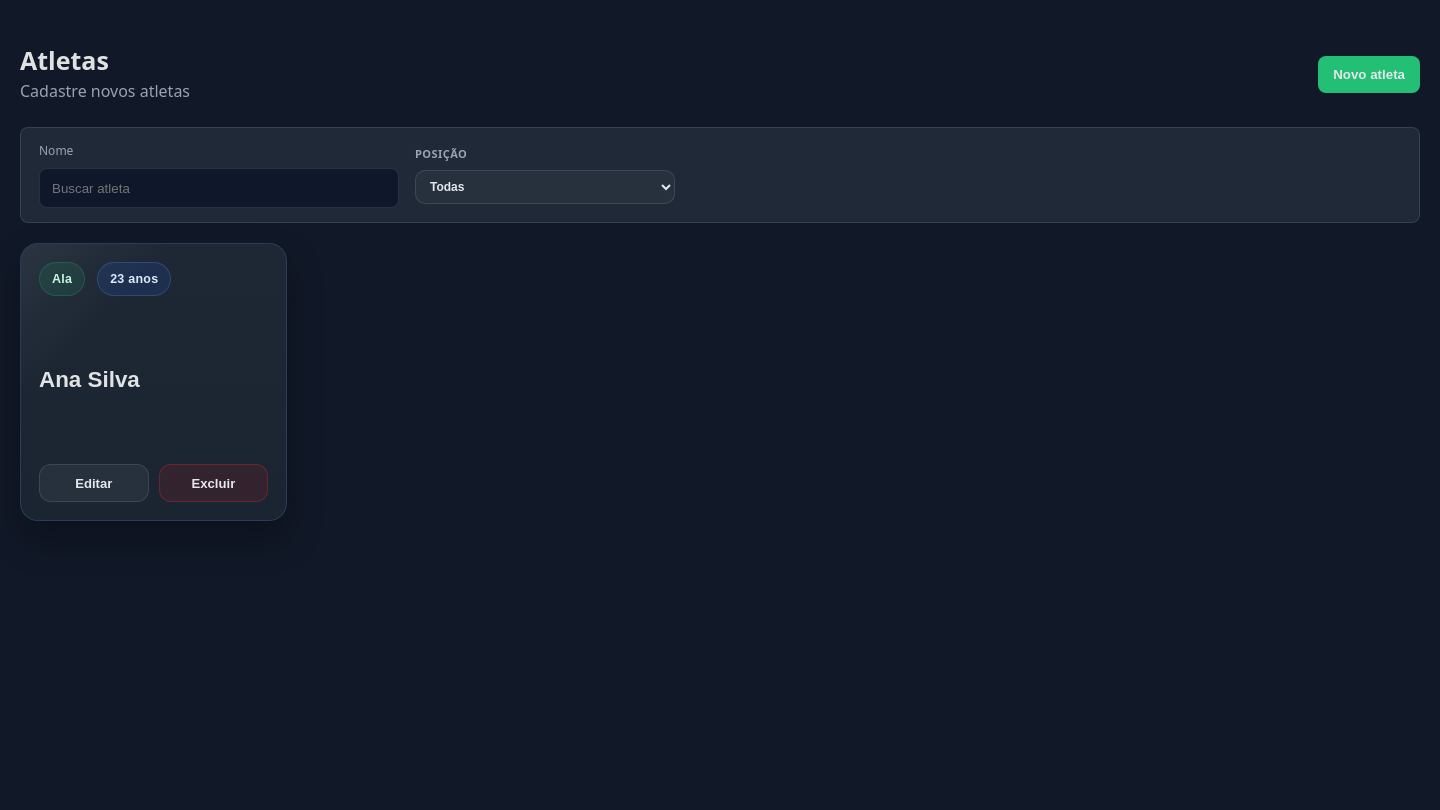
Test: AthleteRegistrationScreen editing › closes after POST success without waiting for list revalidation
Step 1. Click the button with aria-label "Editar Ana Silva" → (94, 483), box x1=39 y1=464 x2=149 y2=502
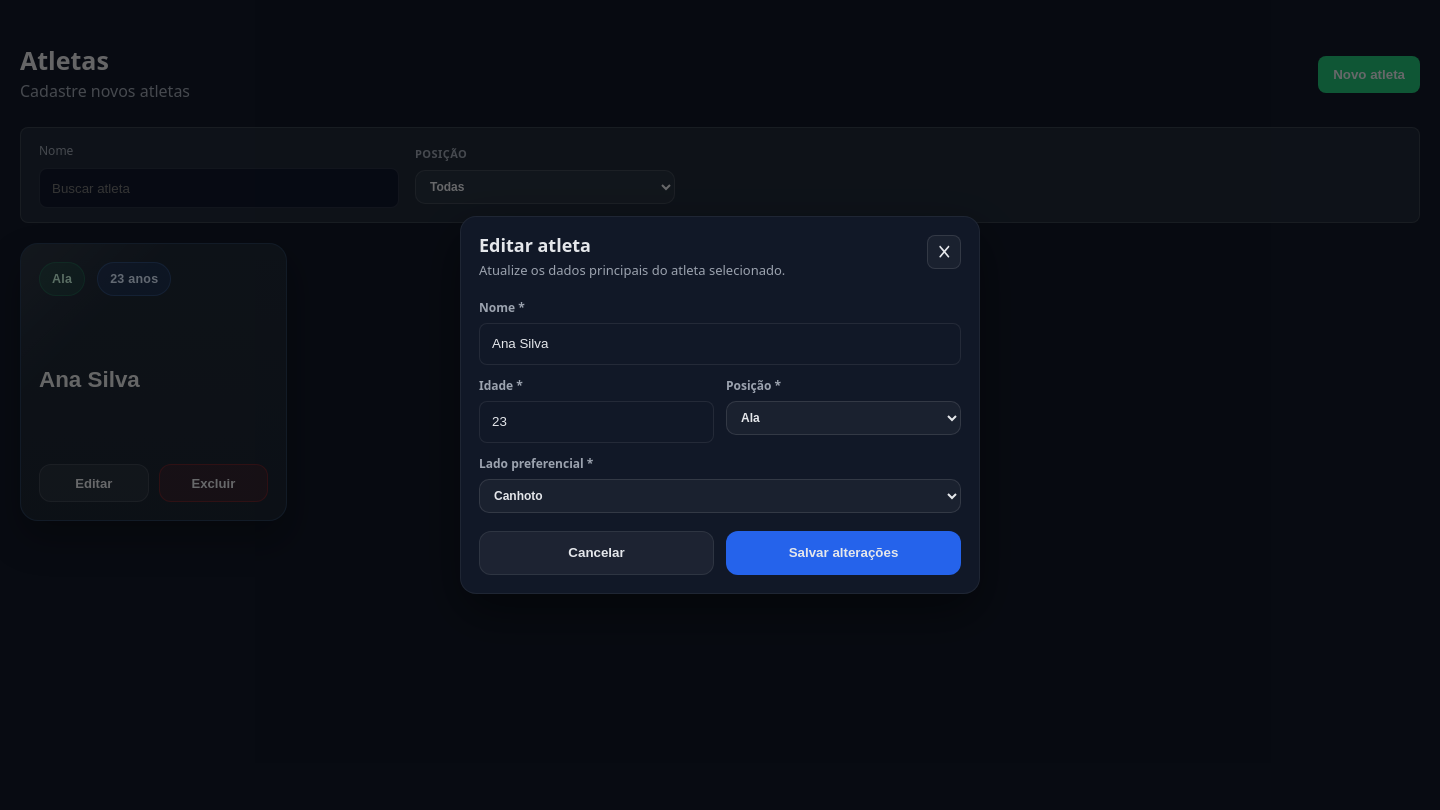
Now the dropdown labelled "Posição *" shows "Ala", box x1=726 y1=400 x2=961 y2=434
Now the dropdown labelled "Lado preferencial *" shows "Canhoto", box x1=479 y1=478 x2=961 y2=512
Step 2. Click the button "Salvar alterações" → (844, 552), box x1=726 y1=530 x2=961 y2=574
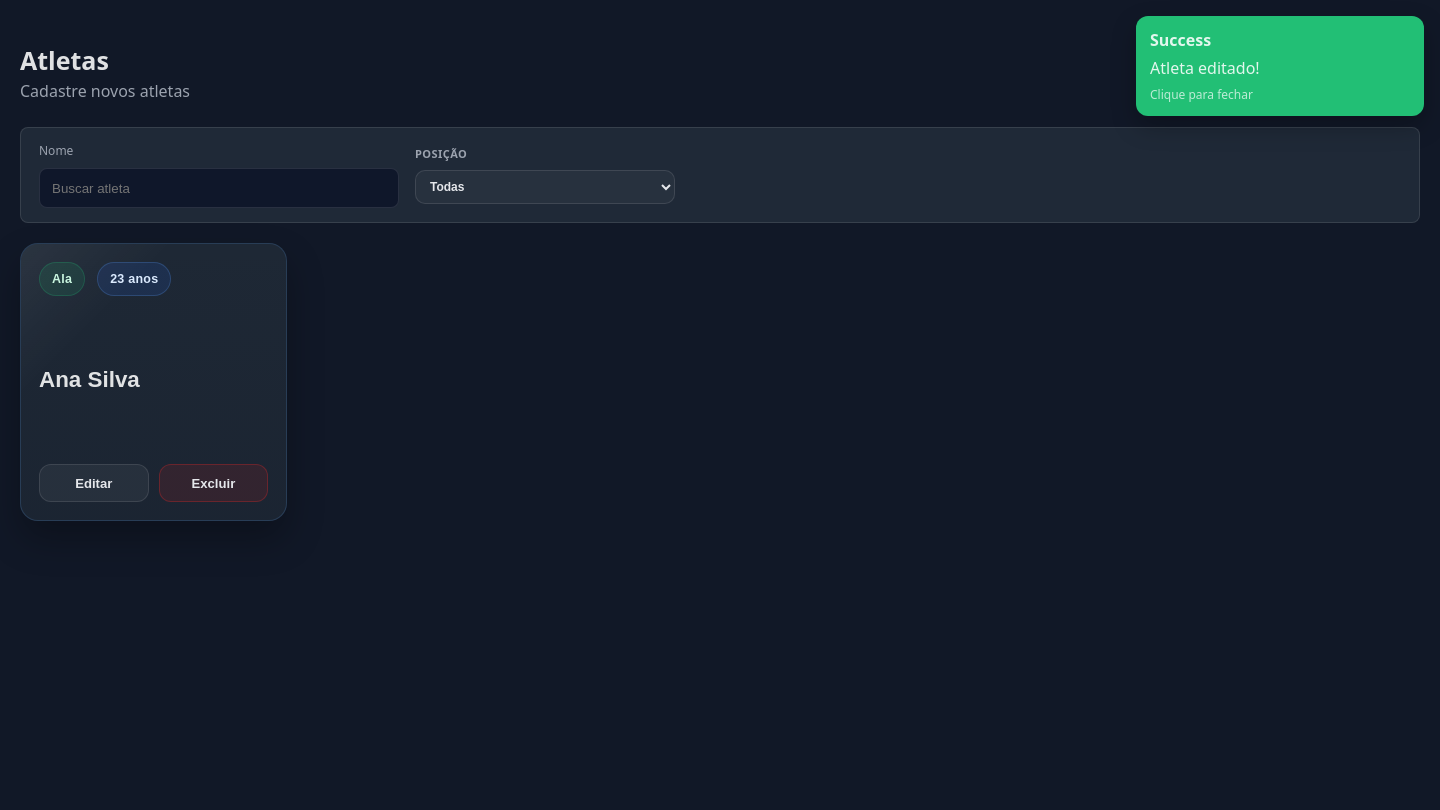
Now the heading "Editar atleta" is gone
